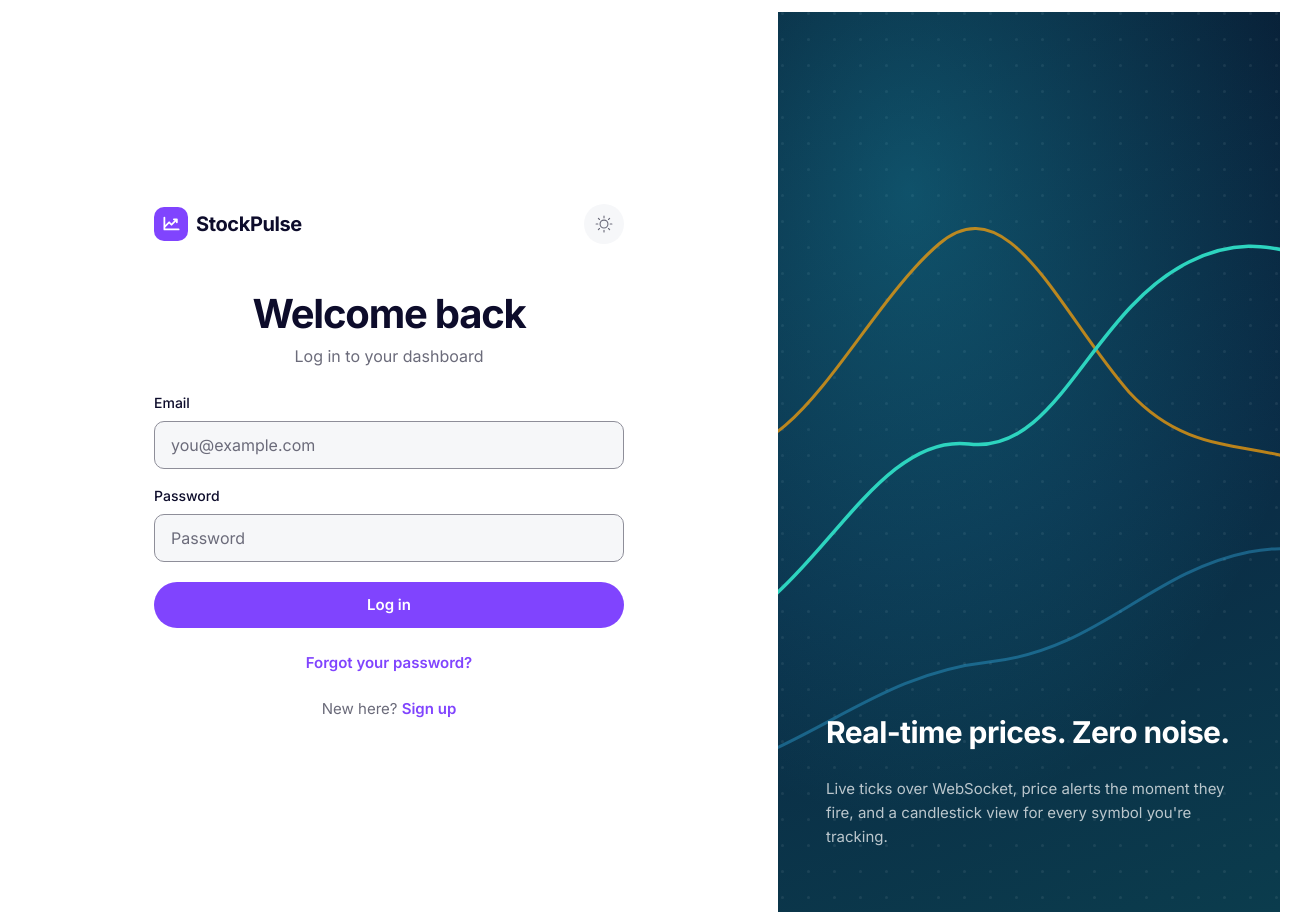
Test: AuthGate › signs up, then returns to the login form with the server's message
Step 1. Click the button "Sign up" → (429, 708), box [402,699,456,718]
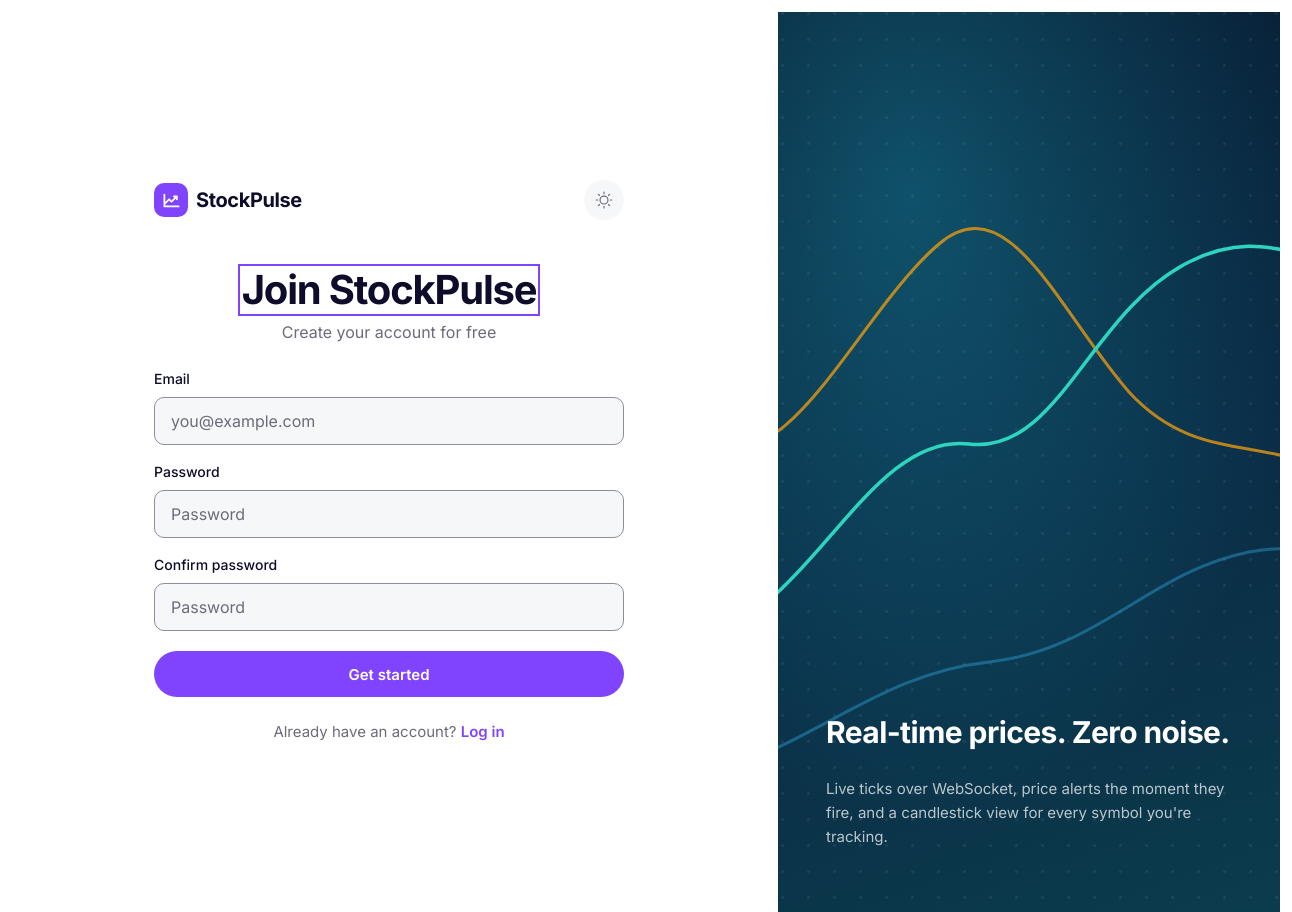
Step 2. Type "new@example.com" into the field labelled "Email" → (389, 421), box [154,397,624,445]
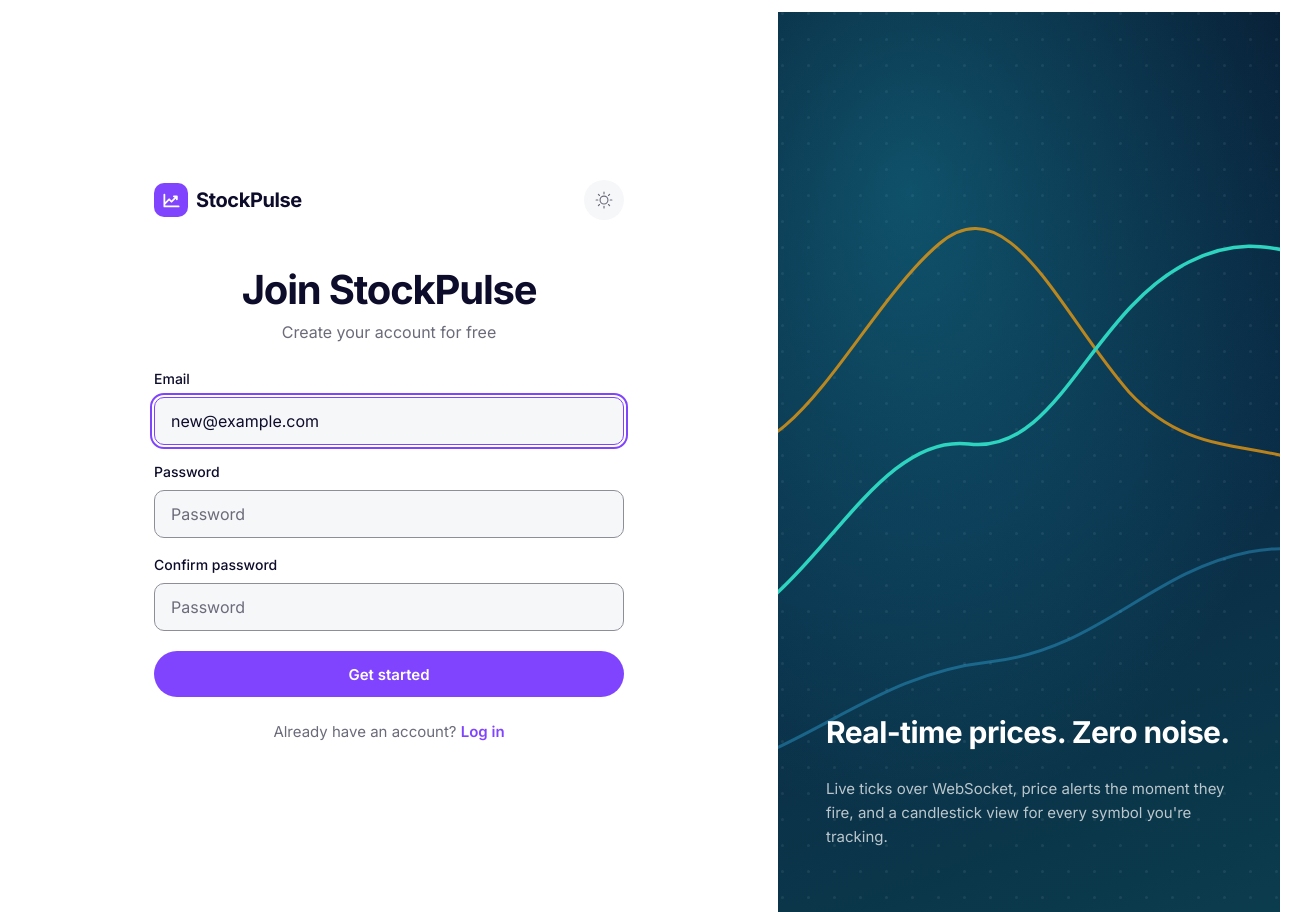
Step 3. Type "brand-new-password" into the password field labelled "Password" → (389, 514), box [154,490,624,538]
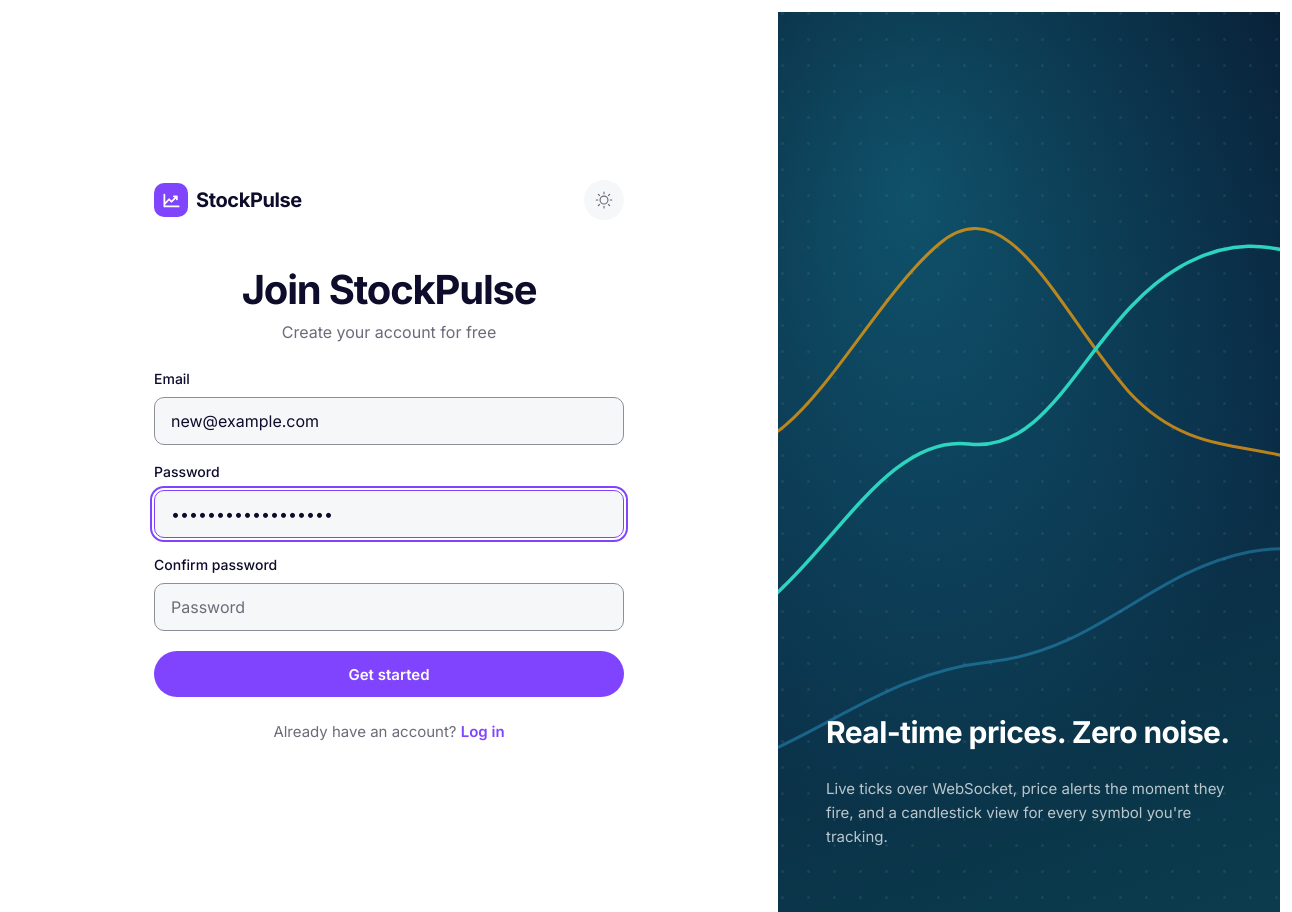
Step 4. Type "brand-new-password" into the password field labelled "Confirm password" → (389, 607), box [154,583,624,631]
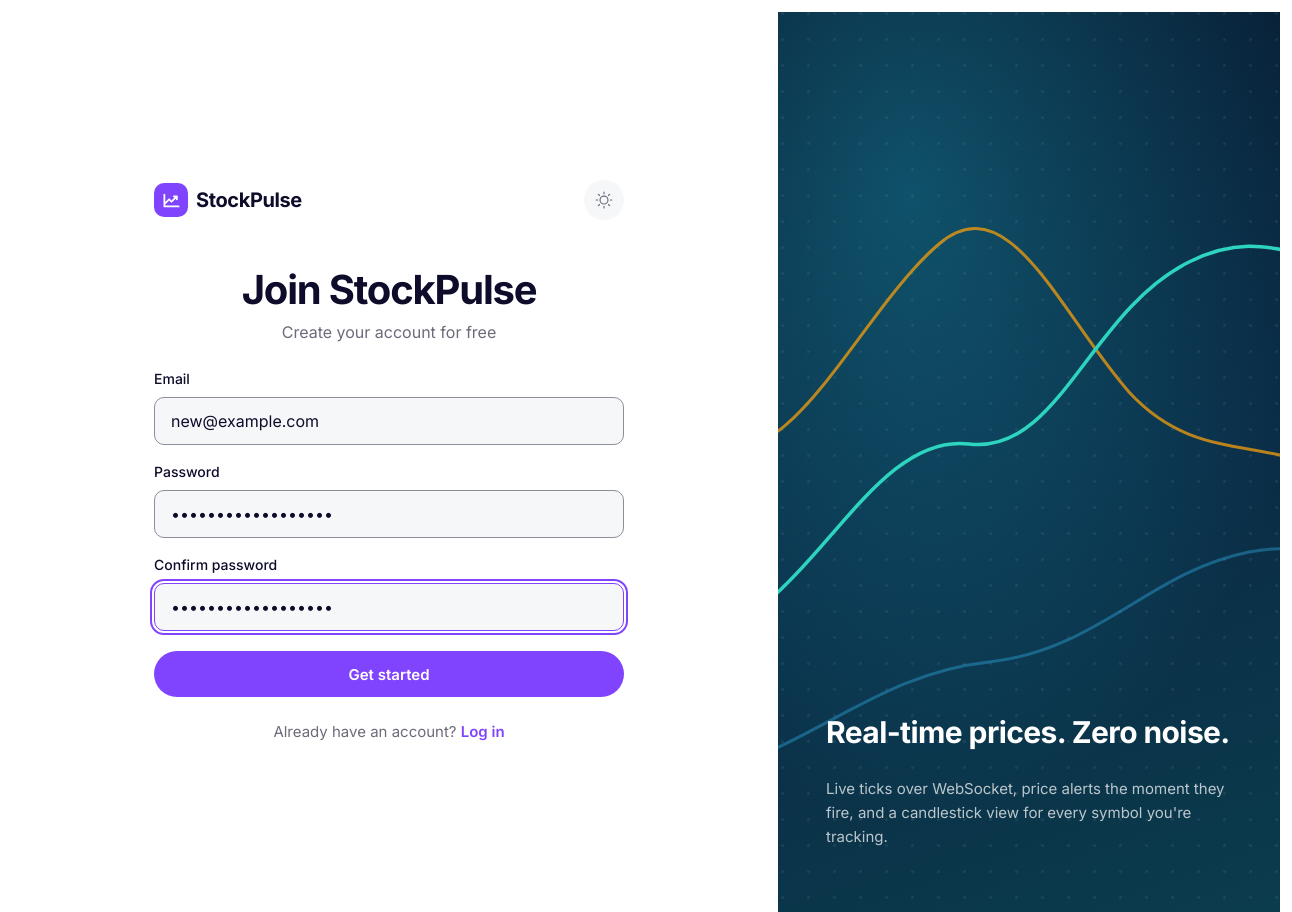
Step 5. Click the button "Get started" → (389, 674), box [154,651,624,697]
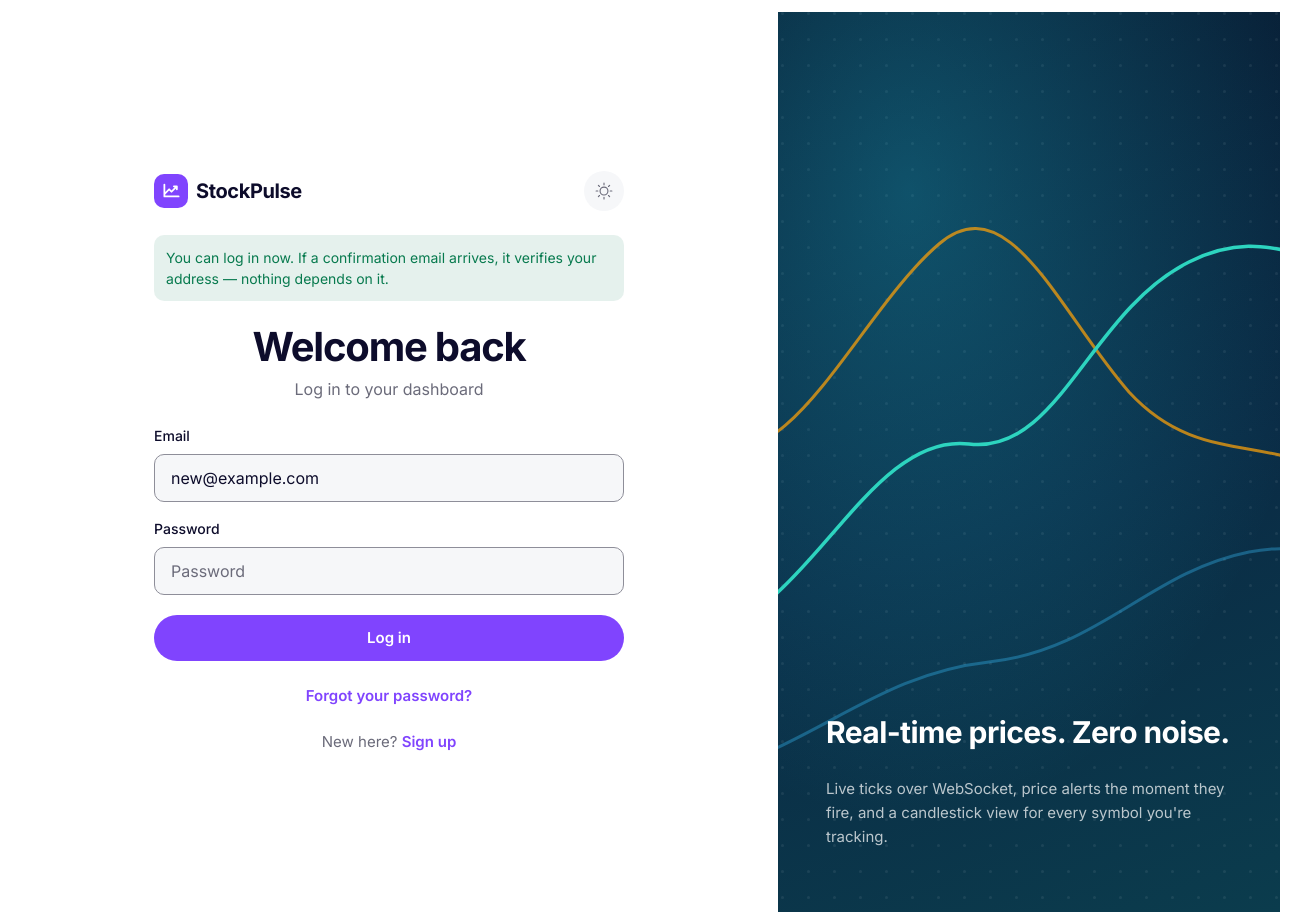
Expected: the message shows "You can log in now", [166,248,596,286]
Expected: the form "Log in" is shown, [154,424,624,660]
